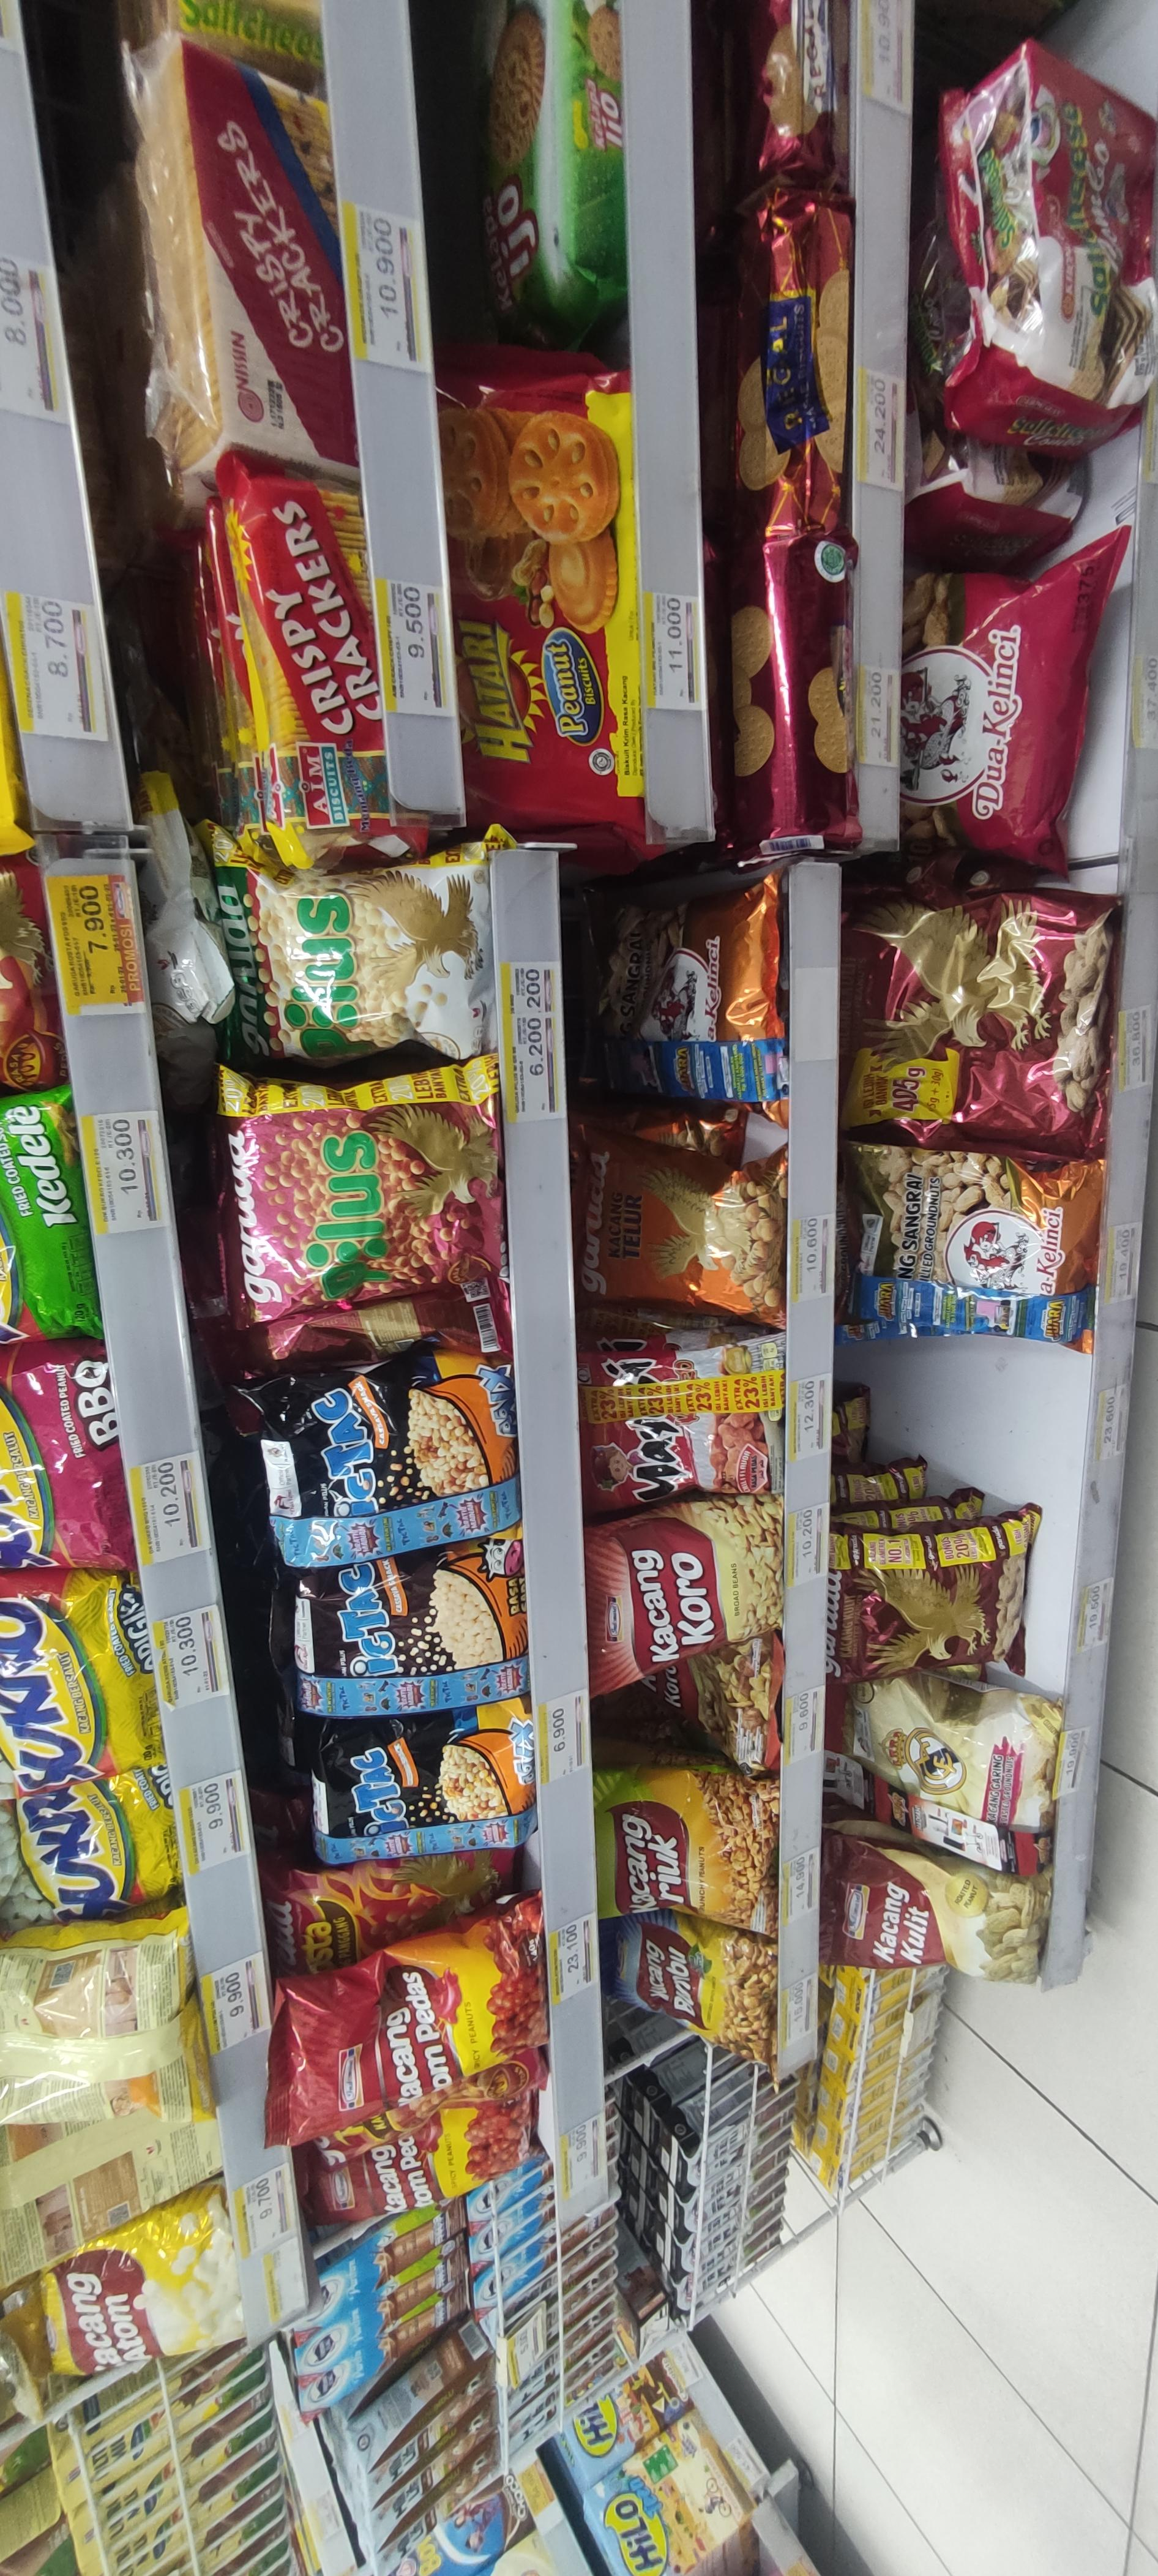90101111702100: (573, 1142, 793, 1324)
90101112103100: (823, 1521, 1043, 1679)
90101151201100: (199, 1074, 519, 1313)
90101151604100: (217, 869, 508, 1055)
Garuda Kacang Kulit 405 gram: (849, 899, 1117, 1147)
KacangKoroIndomaret: (586, 1526, 780, 1686)
KacangSangraiDuaKelinci: (864, 1152, 1110, 1352)
MayasiPedas: (573, 1349, 785, 1500)
TicTacMix: (263, 1359, 512, 1561), (286, 1705, 540, 1855)
TicTacSapiPanggang: (273, 1571, 529, 1705)
